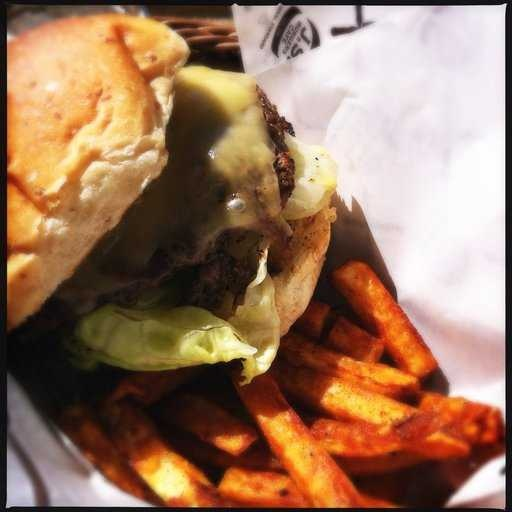hamburger: (1, 34, 334, 379)
